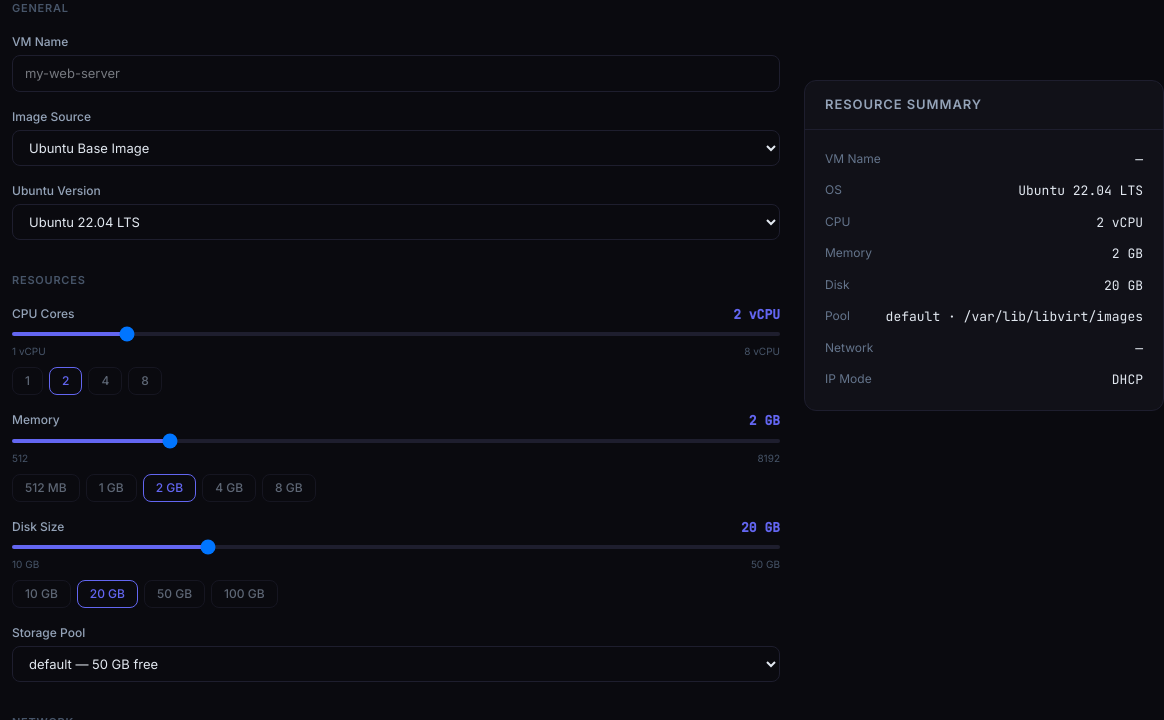
ProvisionForm — VM name validation › rejects uppercase letters in VM name
Type "MyVM" into the field labelled "VM Name" at [396, 73], box top-left (12, 54), bottom-right (780, 92)
(page scrolled)
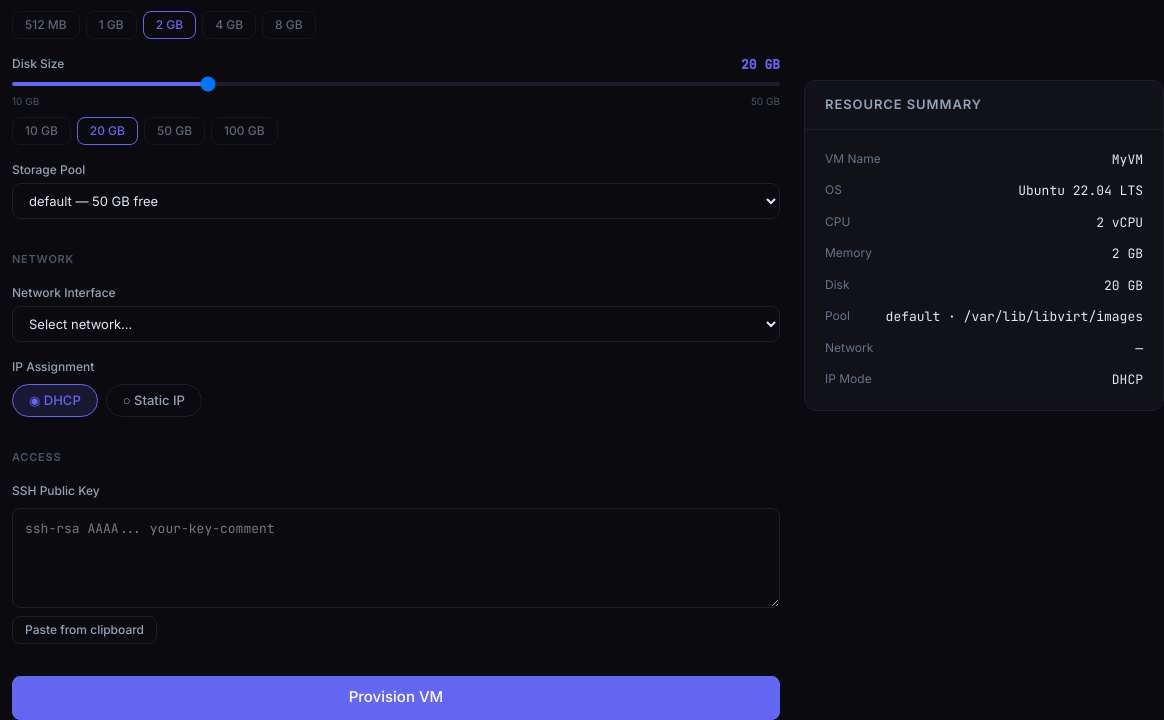
Click the button "Provision VM" at [396, 698], box top-left (12, 676), bottom-right (780, 719)
(page scrolled)
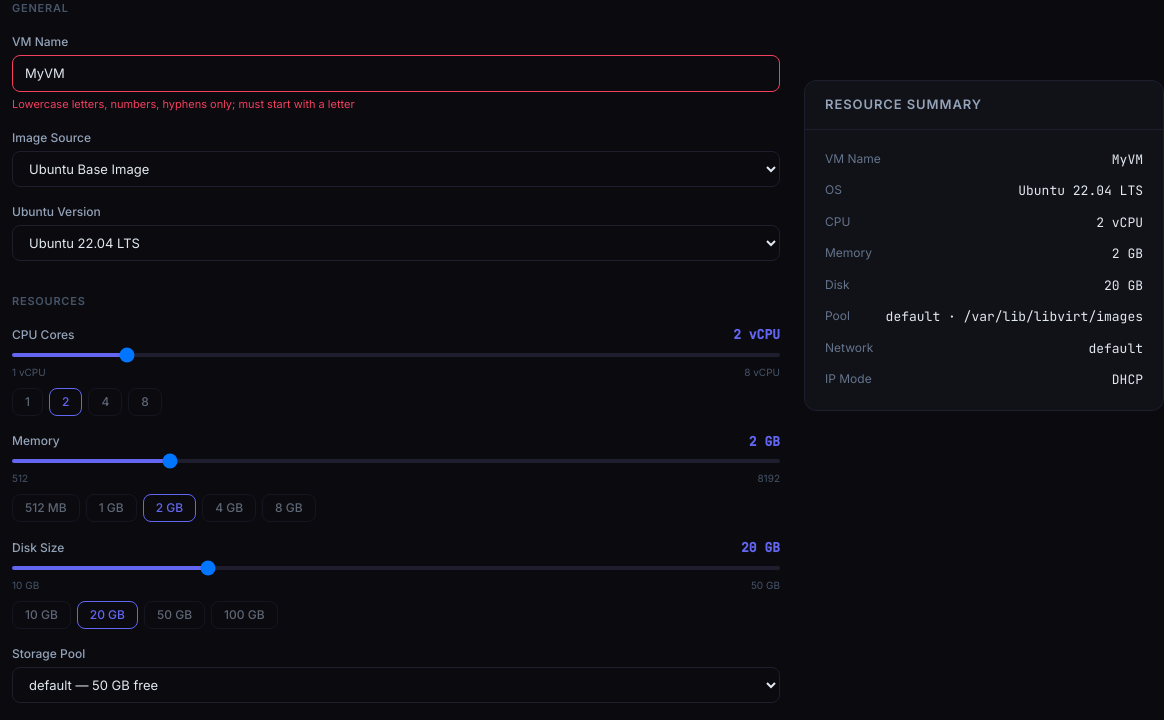
Now the text "Lowercase letters, numbers, hyphens" is shown, box top-left (12, 97), bottom-right (355, 111)
